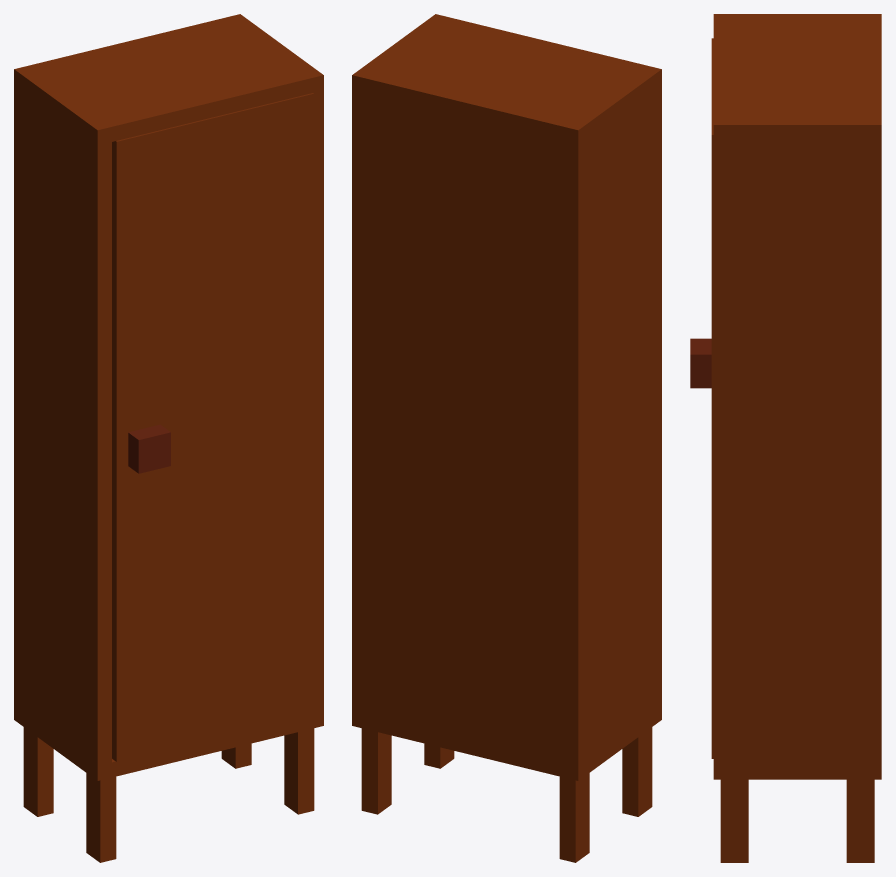
File: cabinet.fbx
3 views of the same model, side by side, from view 1: azimuth 30°, elevation 25°; view 2: azimuth 150°, elevation 25°; view 3: azimuth 270°, elevation 25° (orthographic).
Visible parts, largest first — view 1: CabinetDoor, Cabinet; view 2: Cabinet; view 3: Cabinet, CabinetDoor.
Boxes of the visible parts, left/top/right/bottom form: CabinetDoor: left=112, top=93, right=313, bottom=761; Cabinet: left=14, top=14, right=323, bottom=862; Cabinet: left=352, top=14, right=661, bottom=862; Cabinet: left=713, top=14, right=881, bottom=862; CabinetDoor: left=690, top=38, right=713, bottom=758.
Size of the model in its own units: 200 by 622 by 146.
